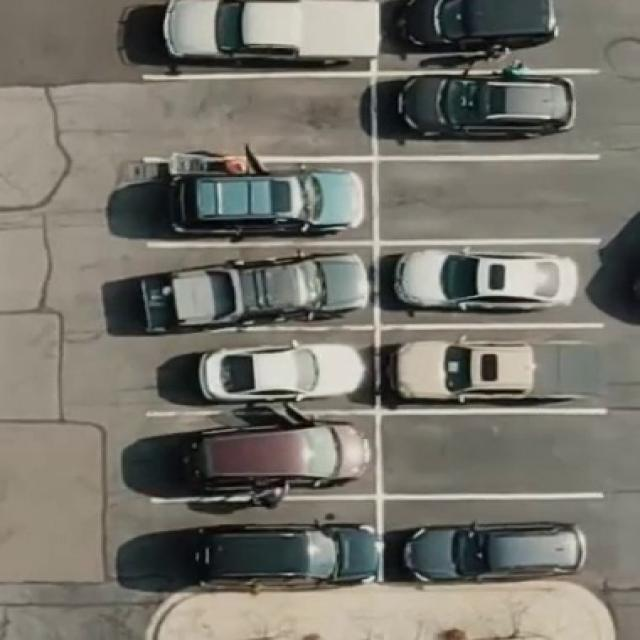empty: (148, 77, 374, 157), (379, 160, 603, 240), (386, 416, 606, 496)
notEmpty: (147, 326, 375, 410), (147, 160, 375, 242), (379, 327, 609, 408), (379, 244, 605, 324), (152, 502, 382, 580), (148, 415, 378, 492), (149, 246, 375, 324), (384, 497, 606, 576), (378, 76, 600, 154), (145, 0, 369, 76), (377, 0, 597, 68)
